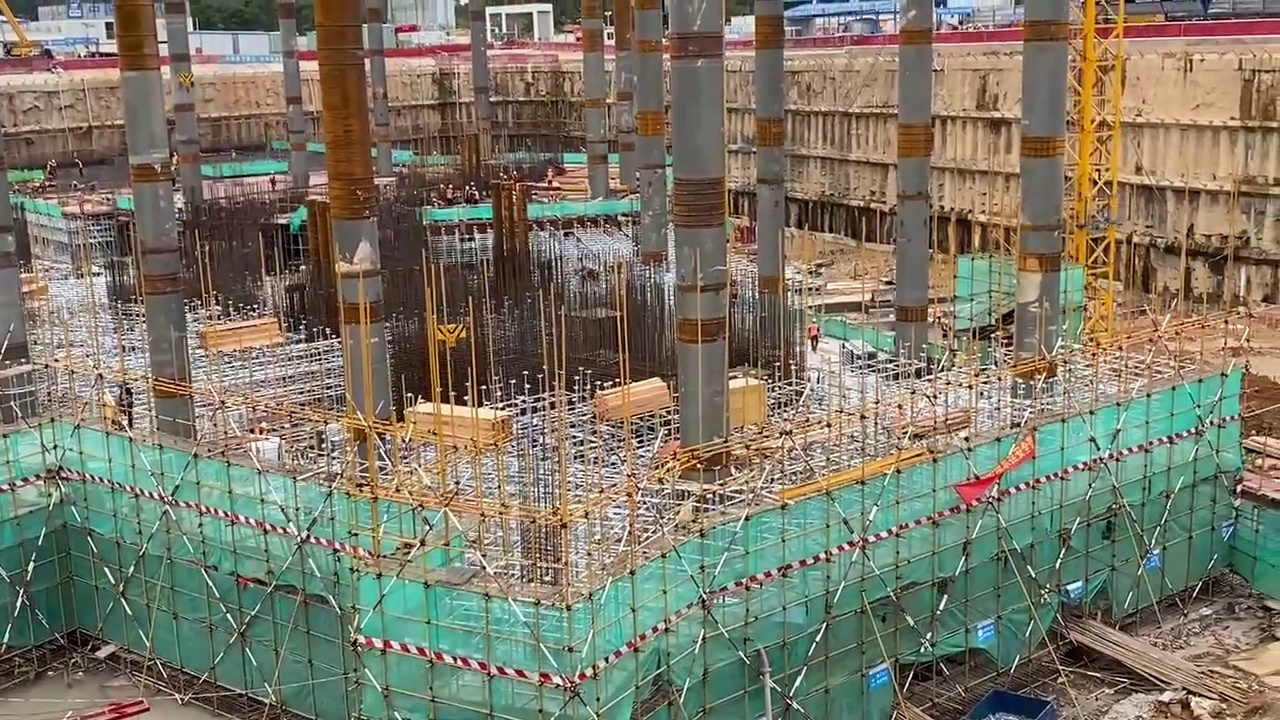hook: (437, 320, 465, 347)
hopper: (963, 685, 1057, 720)
person: (805, 315, 823, 353)
wood: (407, 403, 512, 443), (200, 311, 279, 350), (598, 378, 670, 416)
